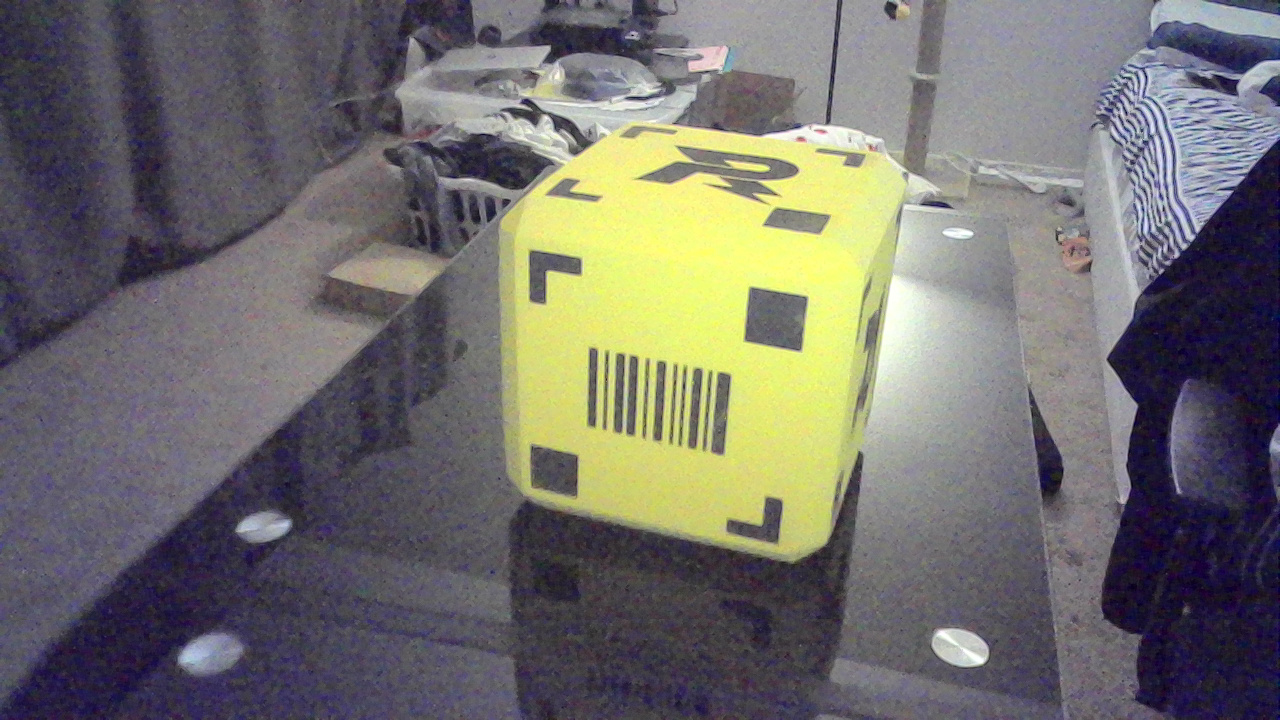Barcode: (585, 357, 750, 446)
R: (635, 144, 820, 206), (858, 273, 891, 480)
